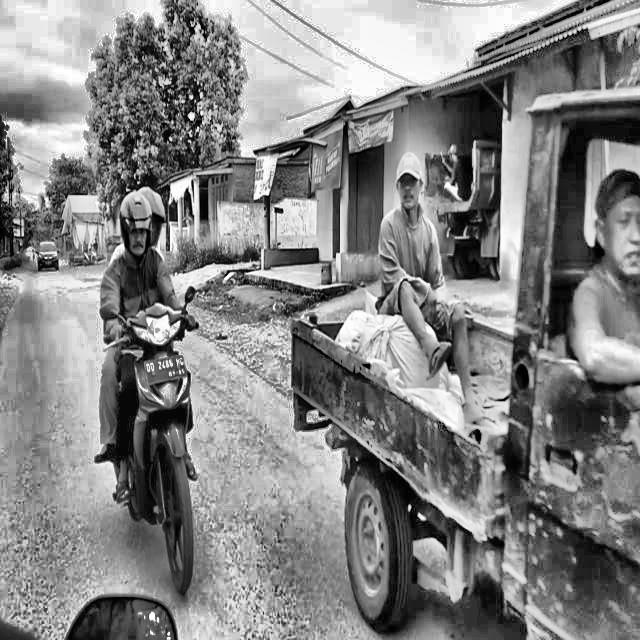motorcycle: (94, 306, 234, 596)
